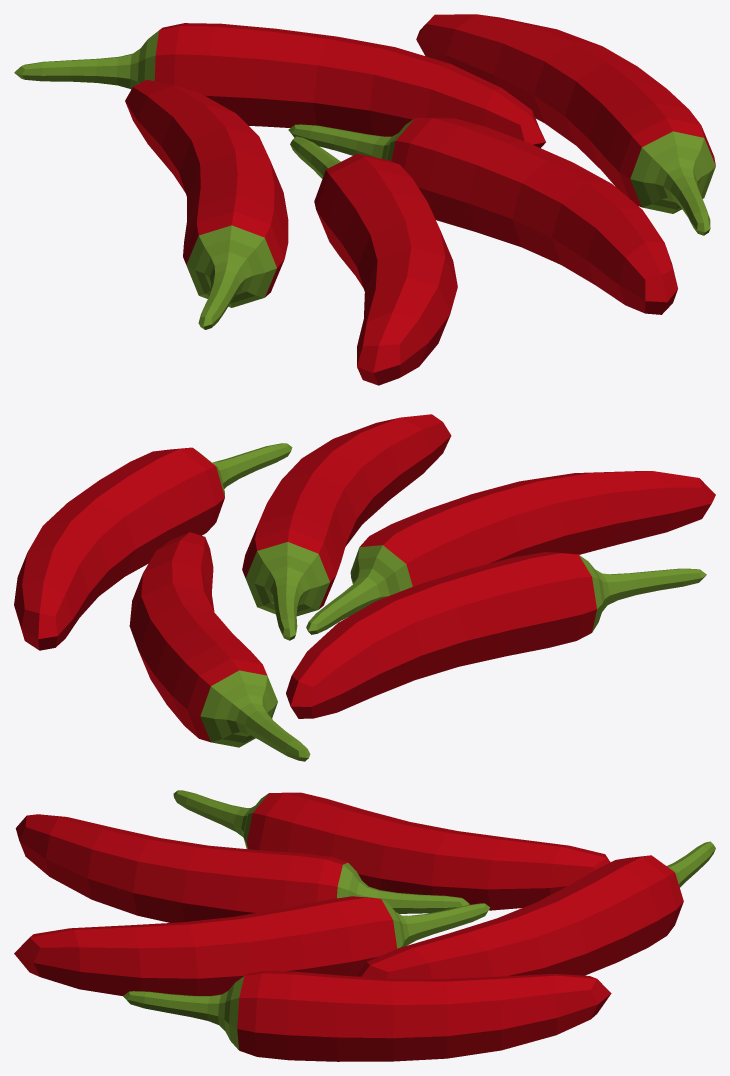
Rendered from Chili.fbx.
3 views of the same model, one above another, from view 1: azimuth 30°, elevation 25°; view 2: azimuth 150°, elevation 25°; view 3: azimuth 270°, elevation 25° (orthographic). The views are drawn at different scales.
Parts seen in each view (by area): view 1: Chili; view 2: Chili; view 3: Chili.
Part boxes in pixels (bbox=[...]): Chili: bbox=[14, 14, 715, 385]; Chili: bbox=[14, 414, 715, 761]; Chili: bbox=[14, 790, 715, 1061].
Size of the model in its own units: 20.08 by 3.19 by 24.36.
